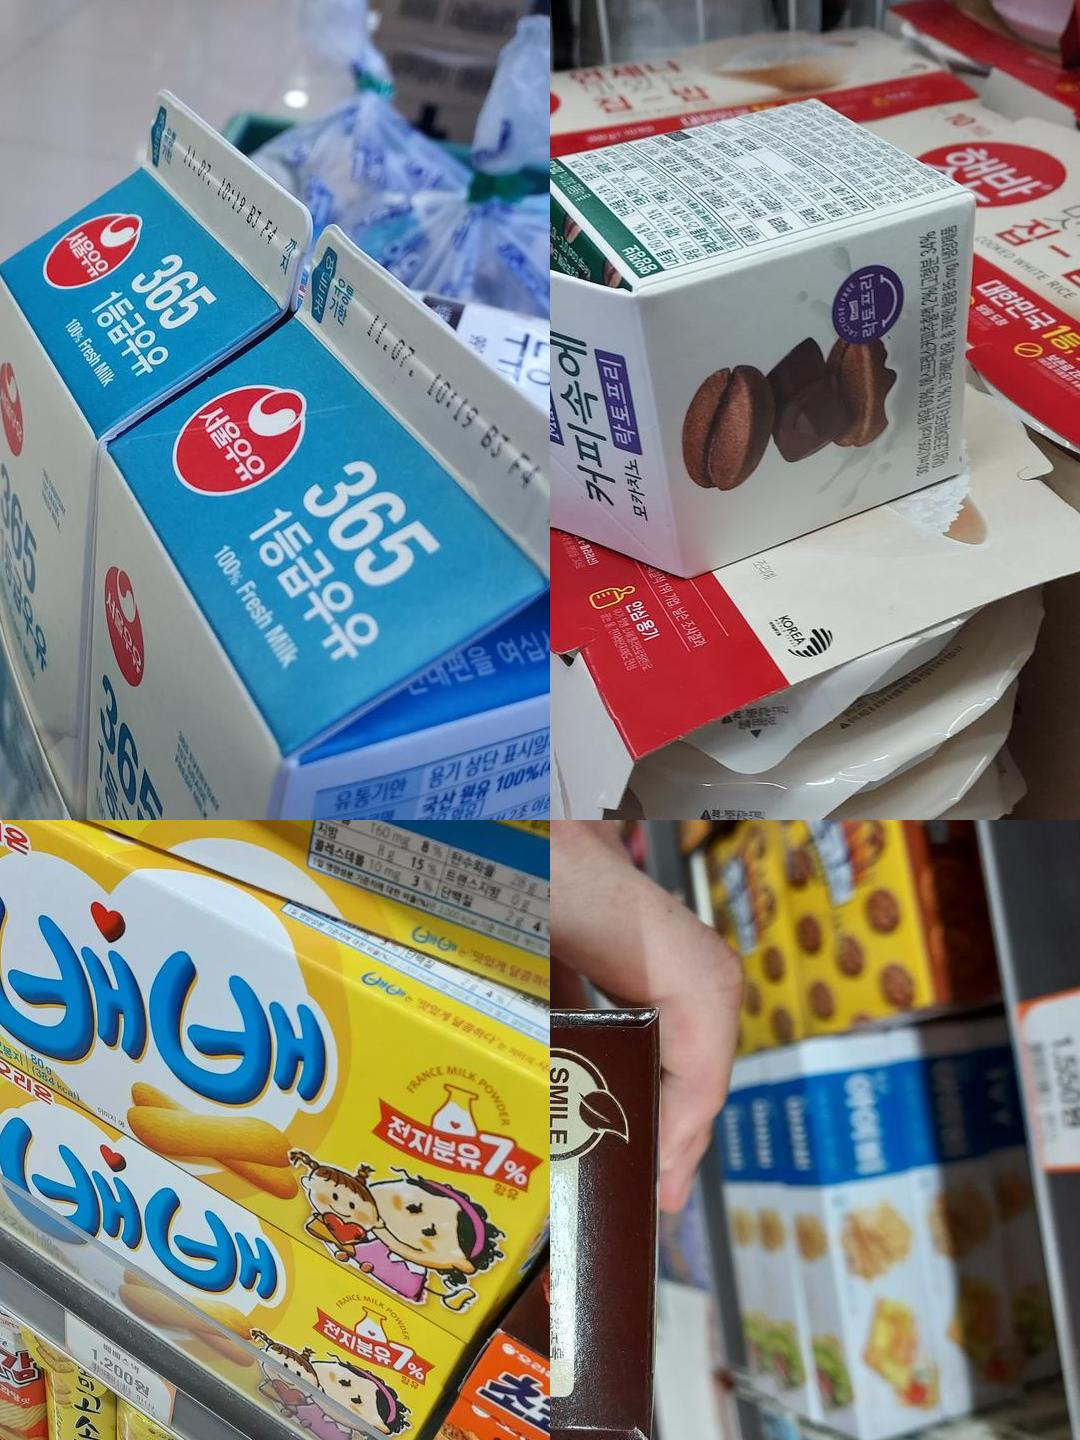milk: (309, 207, 550, 594), (145, 91, 306, 319), (550, 248, 624, 558)
snack food: (550, 1101, 617, 1408)
